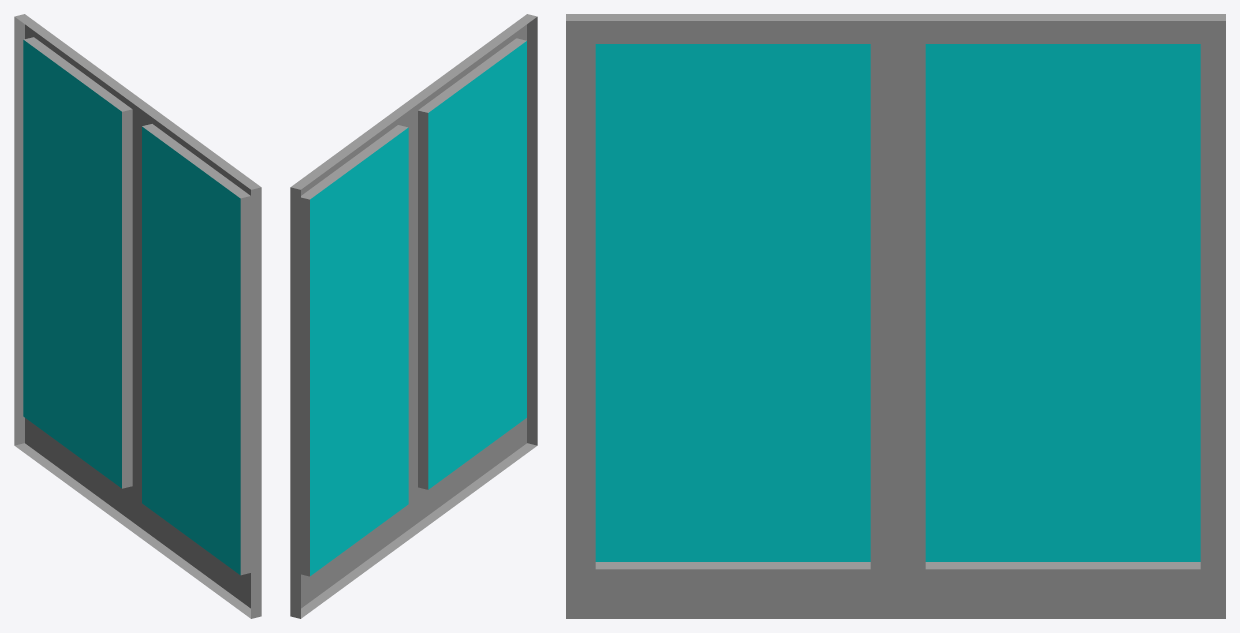
File: kitsch_wall_window_02_LOD0.fbx
The picture shows the model from 3 angles, left to right: view 1: azimuth 30°, elevation 25°; view 2: azimuth 150°, elevation 25°; view 3: azimuth 270°, elevation 25°; orthographic projection. The views are drawn at different scales.
Visible parts, largest first — view 1: kitsch_wall_window_02_LOD0; view 2: kitsch_wall_window_02_LOD0; view 3: kitsch_wall_window_02_LOD0.
Part boxes in pixels (<box>): kitsch_wall_window_02_LOD0: <box>14,14,261,618</box>; kitsch_wall_window_02_LOD0: <box>290,14,537,618</box>; kitsch_wall_window_02_LOD0: <box>566,14,1225,618</box>.
Size of the model in its own units: 0.0763 by 3 by 3.
